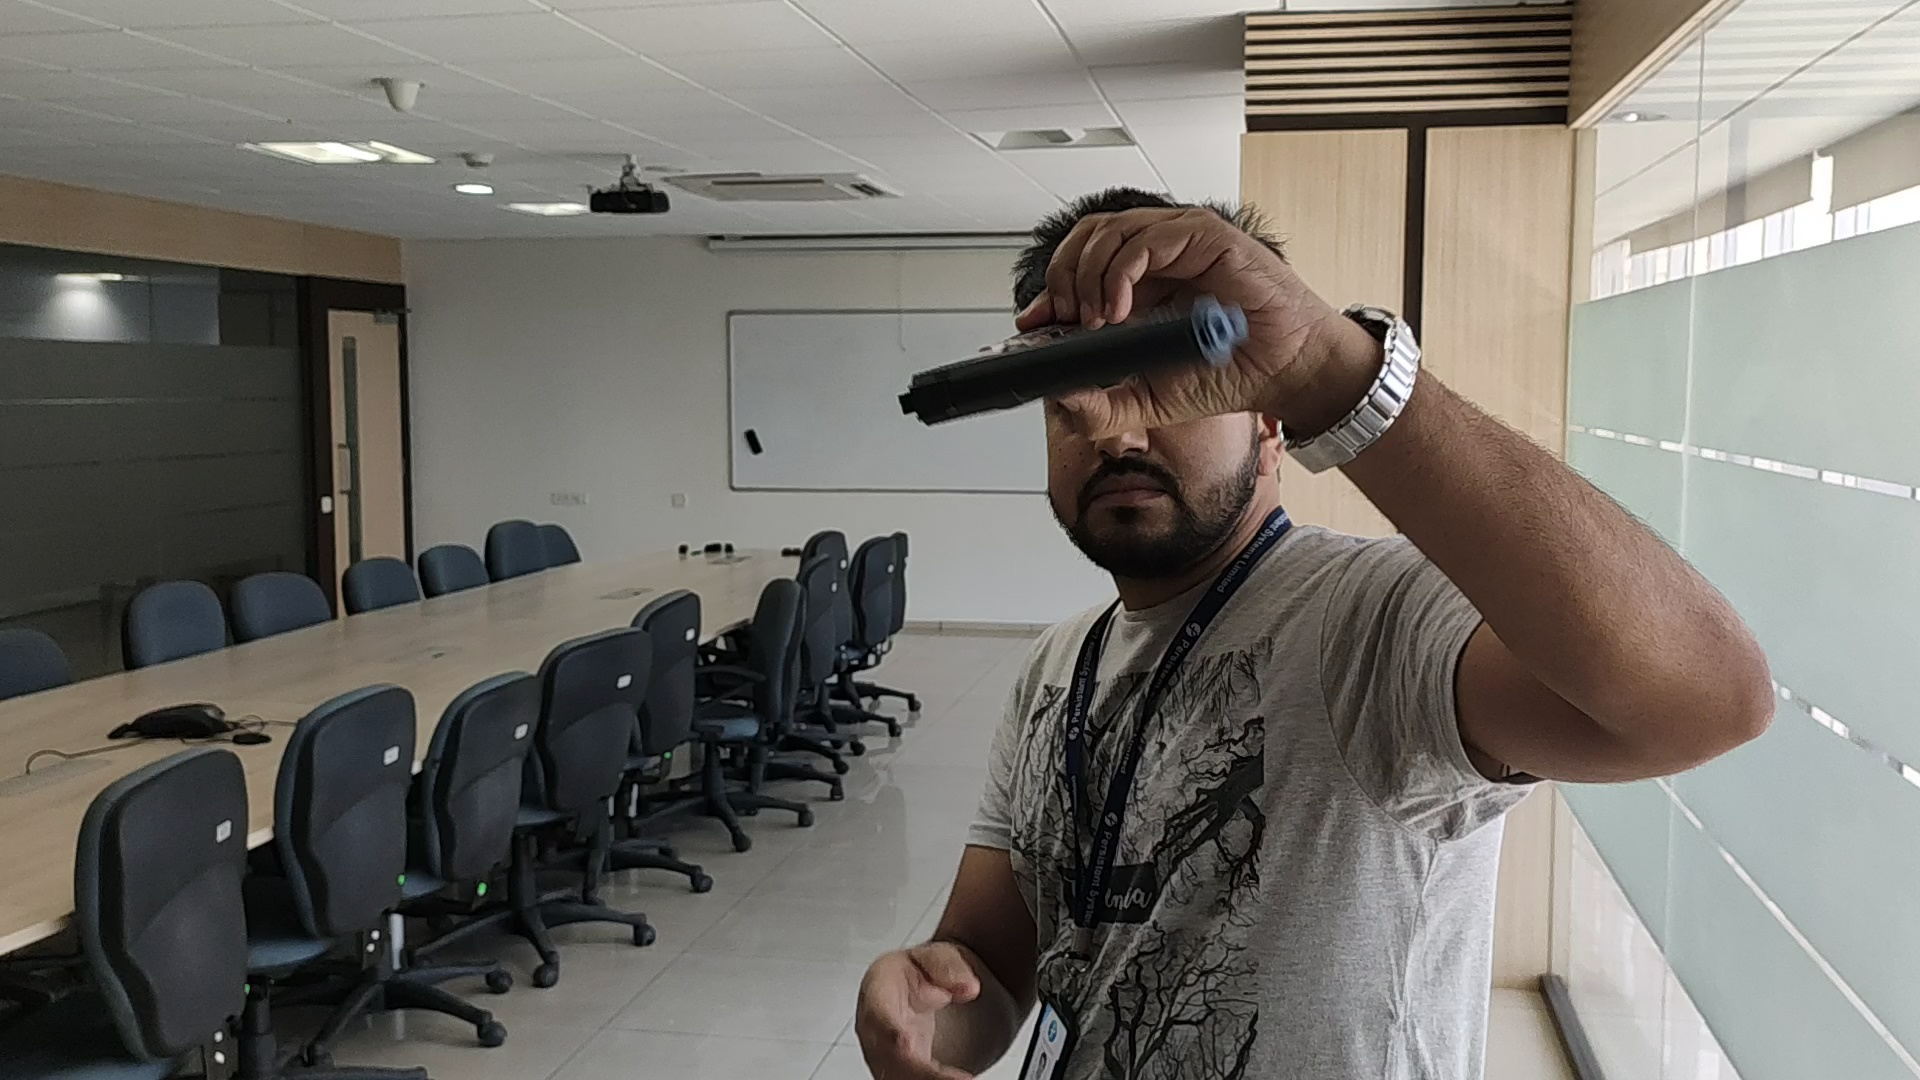gun: (899, 328, 1234, 430)
